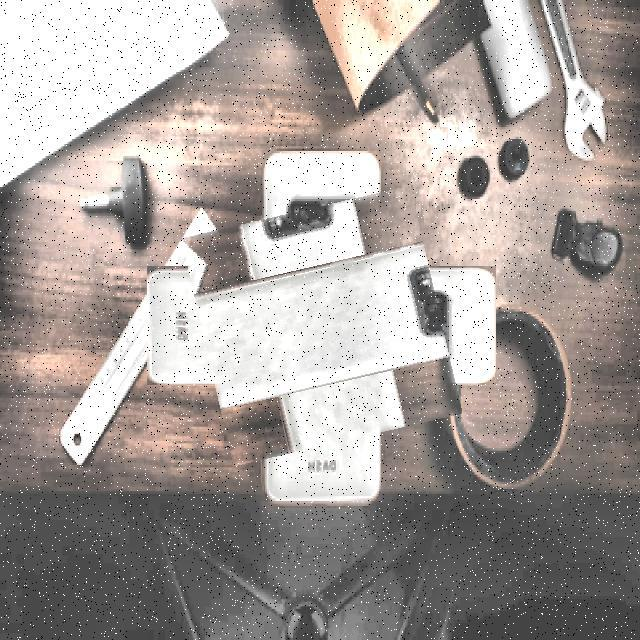Phone: (192, 198, 450, 454)
